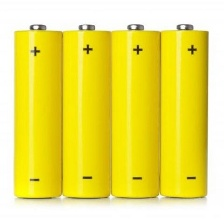battery: (59, 21, 115, 202), (108, 22, 163, 201), (10, 22, 64, 201), (158, 22, 209, 200)
